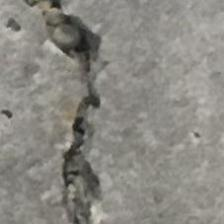Crack: (17, 0, 135, 224)
